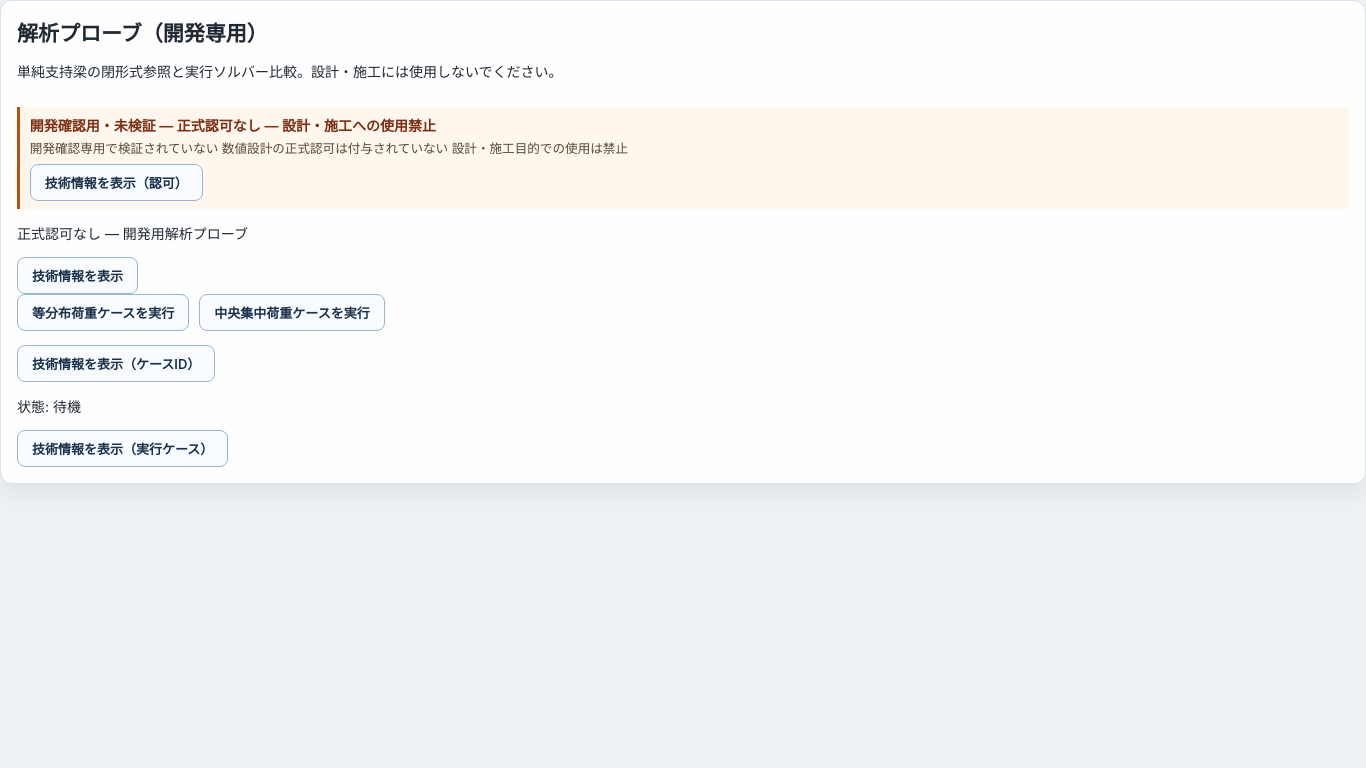
AnalysisDevelopmentProbePanel › shows development warning and runs GOLD-AN-001 against mocked solver
Expected: the element with test id "apollo-analysis-development-warning" shows "正式認可なし", [30,117,436,134]
Click the button with test id "apollo-analysis-run-gold-an-001". click: (103, 312)
box: [17,294,189,331]
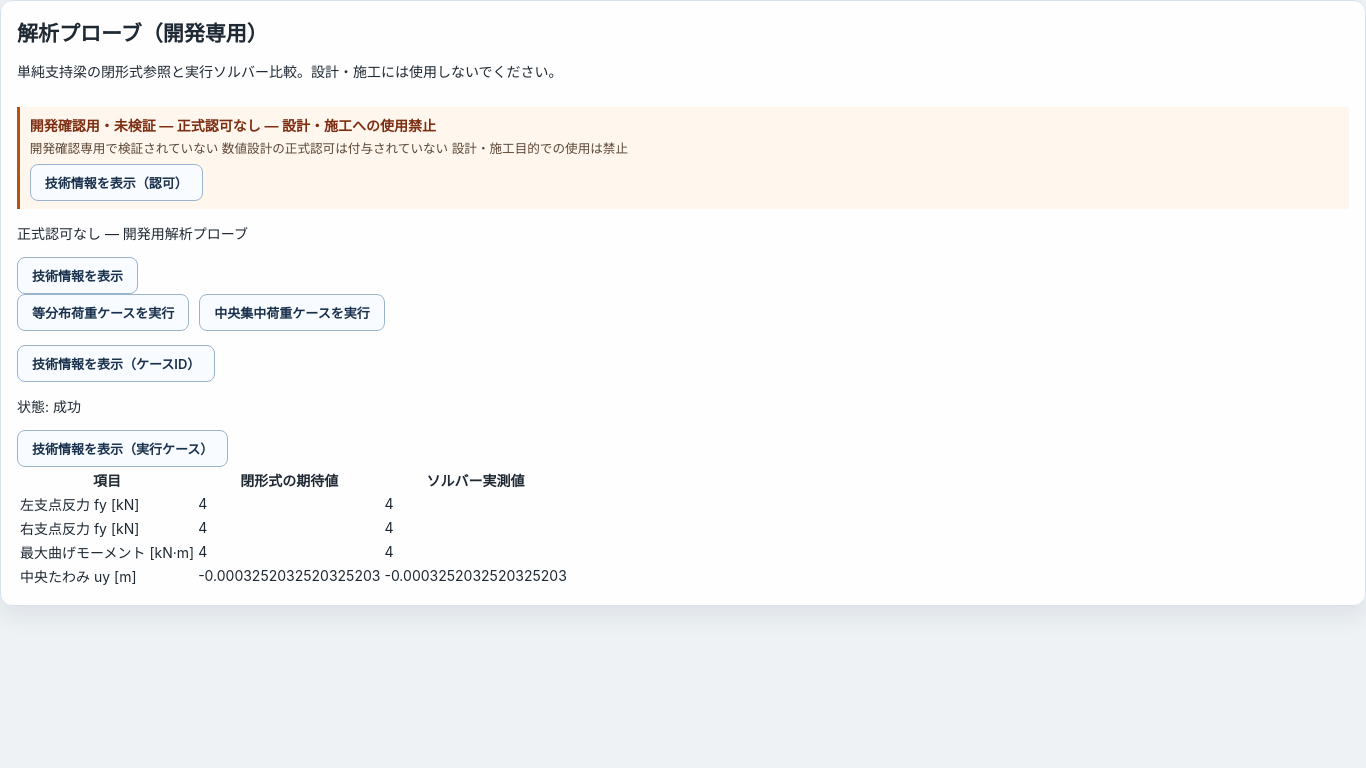
Expected: the text with test id "apollo-analysis-development-status" shows "成功", [53,398,81,415]
Expected: the table with test id "apollo-analysis-development-table" is shown, [17,467,570,589]
